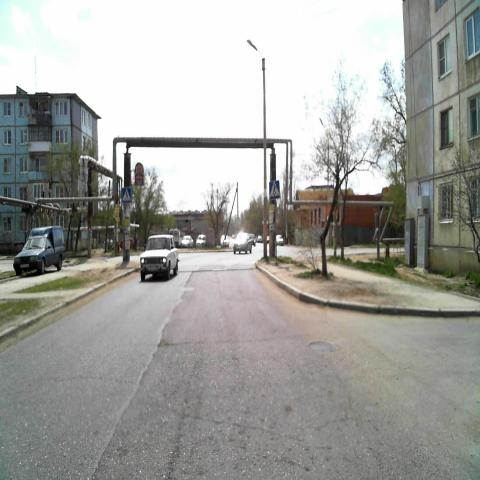5_19_1: (269, 180, 279, 199), (122, 187, 132, 203)
